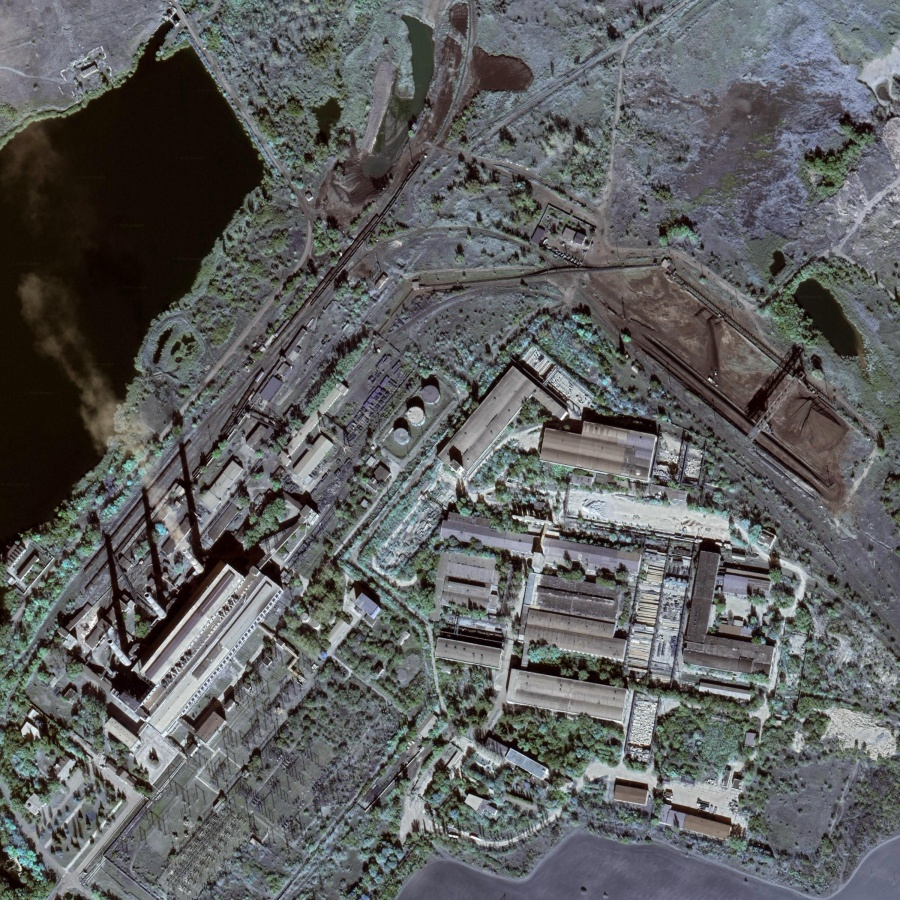PowerPlant: (67, 362, 432, 718), (564, 248, 854, 501)
